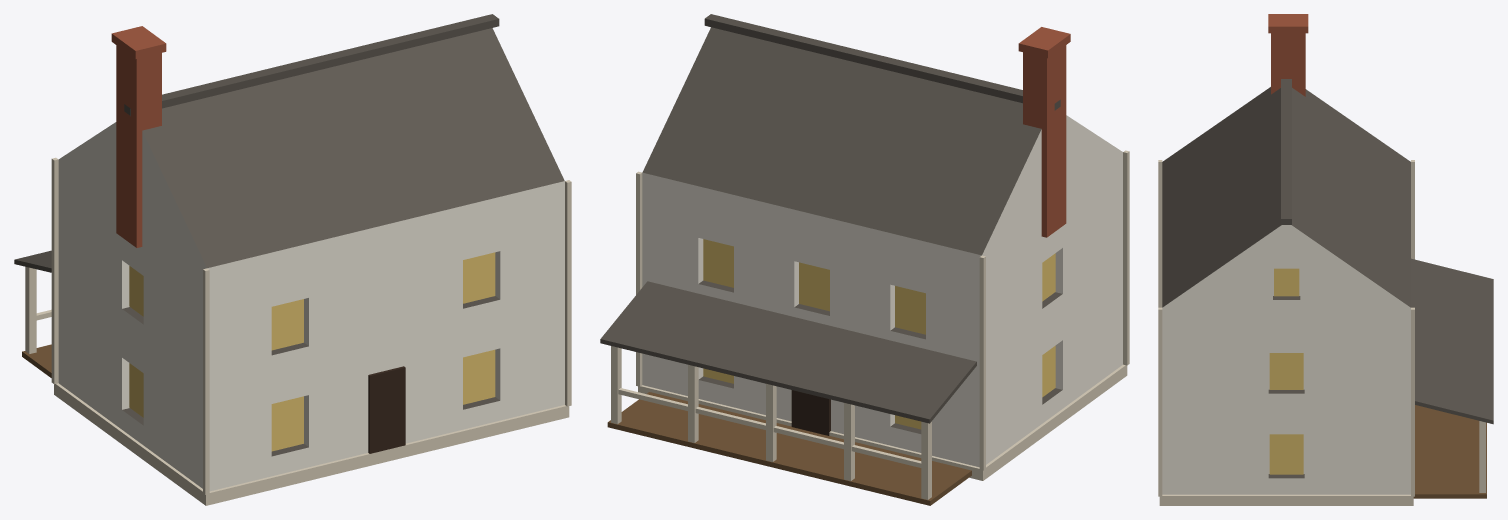
File: farmhouse.meshopt.glb
The picture shows the model from 3 angles, left to right: view 1: azimuth 30°, elevation 25°; view 2: azimuth 150°, elevation 25°; view 3: azimuth 270°, elevation 25°; orthographic projection. The views are drawn at different scales.
Parts seen in each view (by area): view 1: wall, foundation, chimney, ridge_cap, door_rear, corner_2, window_06, window_07, corner_0, corner_1, window_08, window_09 (+4 smaller); view 2: wall, porch_roof, porch_floor, chimney, ridge_cap, foundation, rail, corner_0, corner_2, door, window_03, window_05 (+9 smaller); view 3: wall, porch_roof, porch_floor, foundation, chimney, ridge_cap, window_13, window_14, corner_1, chimney_cap, corner_3, window_15 (+3 smaller).
Boxes of the visible parts, <box> form: wall: <box>58,28,564,491</box>; foundation: <box>54,383,569,505</box>; chimney: <box>116,45,161,247</box>; ridge_cap: <box>124,14,499,115</box>; door_rear: <box>368,366,405,453</box>; corner_2: <box>51,157,58,384</box>; window_06: <box>271,396,303,451</box>; window_07: <box>463,349,495,404</box>; corner_0: <box>203,268,209,494</box>; corner_1: <box>565,180,571,406</box>; window_08: <box>271,299,303,350</box>; window_09: <box>463,252,495,303</box>; wall: <box>642,27,1122,467</box>; porch_roof: <box>600,281,976,423</box>; porch_floor: <box>607,392,971,505</box>; chimney: <box>1023,45,1066,237</box>; ridge_cap: <box>704,14,1060,110</box>; foundation: <box>638,364,1127,480</box>; rail: <box>618,388,921,467</box>; corner_0: <box>1123,150,1129,365</box>; corner_2: <box>979,255,985,470</box>; door: <box>791,390,830,435</box>; window_03: <box>895,286,925,334</box>; window_05: <box>703,239,733,287</box>; wall: <box>1162,87,1410,494</box>; porch_roof: <box>1411,258,1493,424</box>; porch_floor: <box>1413,405,1486,498</box>; foundation: <box>1159,494,1413,505</box>; chimney: <box>1271,33,1305,96</box>; ridge_cap: <box>1281,79,1291,224</box>; window_13: <box>1269,434,1303,474</box>; window_14: <box>1269,353,1303,389</box>; corner_1: <box>1158,307,1162,496</box>; chimney_cap: <box>1268,14,1308,33</box>; corner_3: <box>1411,307,1414,496</box>; window_15: <box>1274,268,1299,296</box>.
Size of the model in its own units: 10.38 by 10.92 by 9.72.
